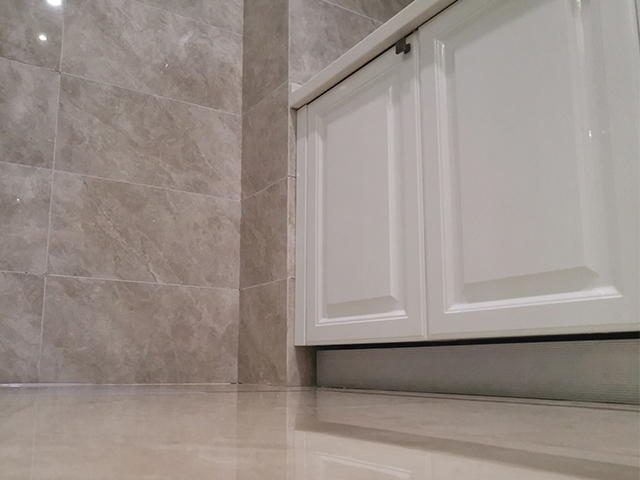cabinet: (288, 1, 640, 407)
